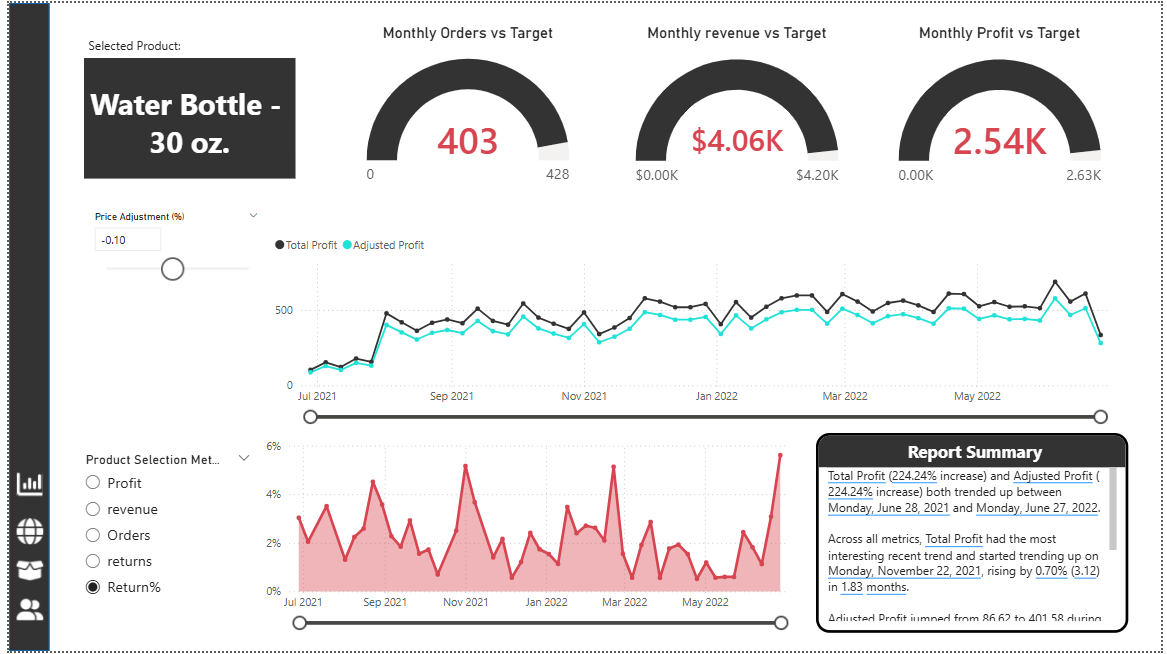

The dashboard page shown, as its layout file describes it:
{"tool":"powerbi","page":{"name":"Product","canvas":[1280,720],"ordinal":3},"visuals":[{"type":"shape","box":[0,0,45,720],"z":0,"group":"g1"},{"type":"gauge","title":"Monthly Orders vs Target","fields":{"MaxValue":["Table.Order Target"],"Y":["Table.Total Orders"]},"box":[392.2,23.3,235.6,202.2],"z":0},{"type":"card","fields":{"Values":["Min(Product Lookup c.ProductName)"]},"box":[83,61,235,134],"z":1000},{"type":"gauge","title":"Monthly revenue vs Target","fields":{"MaxValue":["Table.Revenue Target"],"Y":["Table.Total revenue"]},"box":[691.1,23.3,235.6,203.3],"z":2000},{"type":"gauge","title":"Monthly Profit vs Target","fields":{"MaxValue":["Table.Profit Target"],"Y":["Table.Total Profit"]},"box":[983.3,23.3,235,203.3],"z":3000},{"type":"actionButton","box":[4.4,511.8,37.1,50.6],"z":3000,"group":"g1"},{"type":"group","id":"g1","title":"Group 1","box":[0,0,45,720],"z":4000},{"type":"actionButton","box":[4,564.2,37.6,50.1],"z":4000,"group":"g1"},{"type":"slicer","fields":{"Values":["Price Adjustment (%).Price Adjustment (%)"]},"box":[82.3,225.8,206.6,133.9],"z":5000},{"type":"actionButton","box":[4,608.1,37.6,50.1],"z":5000,"group":"g1"},{"type":"lineChart","fields":{"Category":["AdventureWorks Calendar Lookup.Year Hierarchy.Year","AdventureWorks Calendar Lookup.Year Hierarchy.Start of Month","AdventureWorks Calendar Lookup.Year Hierarchy.Start of Week","AdventureWorks Calendar Lookup.Year Hierarchy.Date"],"Y":["Table.Total Profit","Table.Adjusted Profit"]},"box":[290,249,954,222],"z":6000},{"type":"actionButton","box":[4,651,37.6,50.1],"z":6000,"group":"g1"},{"type":"areaChart","fields":{"Category":["AdventureWorks Calendar Lookup.Year Hierarchy.Year","AdventureWorks Calendar Lookup.Year Hierarchy.Start of Month","AdventureWorks Calendar Lookup.Year Hierarchy.Start of Week","AdventureWorks Calendar Lookup.Year Hierarchy.Date"],"Y":["All Measures.Total Profit"]},"box":[280,478,608,222],"z":7000},{"type":"slicer","fields":{"Values":["Product Selection Metric.Product Selection Metric"]},"box":[72.2,494.4,207.8,182.2],"z":8000},{"type":"textbox","title":"Report Summary","box":[897,478,347,222],"z":9000},{"type":"textbox","box":[83.6,32.8,136.8,36.2],"z":10000}]}

Visuals, with their boxes in screenshot pixels (x1, y1, x2, y2), scaled from the page's 1280x720 canvas onto the 1167x654 screenshot:
shape: rect(0, 0, 41, 653)
"Monthly Orders vs Target" gauge: rect(358, 21, 572, 205)
card - Min(Product Lookup c.ProductName): rect(76, 55, 290, 177)
"Monthly revenue vs Target" gauge: rect(630, 21, 845, 206)
"Monthly Profit vs Target" gauge: rect(896, 21, 1111, 206)
actionButton: rect(4, 465, 38, 511)
"Group 1" group: rect(0, 0, 41, 653)
actionButton: rect(4, 512, 38, 558)
slicer - Price Adjustment (%).Price Adjustment (%): rect(75, 205, 263, 327)
actionButton: rect(4, 552, 38, 598)
lineChart - AdventureWorks Calendar Lookup.Year Hierarchy.Year x AdventureWorks Calendar Lookup.Year Hierarchy.Start of Month: rect(264, 226, 1134, 428)
actionButton: rect(4, 591, 38, 637)
areaChart - AdventureWorks Calendar Lookup.Year Hierarchy.Year x AdventureWorks Calendar Lookup.Year Hierarchy.Start of Month: rect(255, 434, 810, 636)
slicer - Product Selection Metric.Product Selection Metric: rect(66, 449, 255, 615)
"Report Summary" textbox: rect(818, 434, 1134, 636)
textbox: rect(76, 30, 201, 63)
